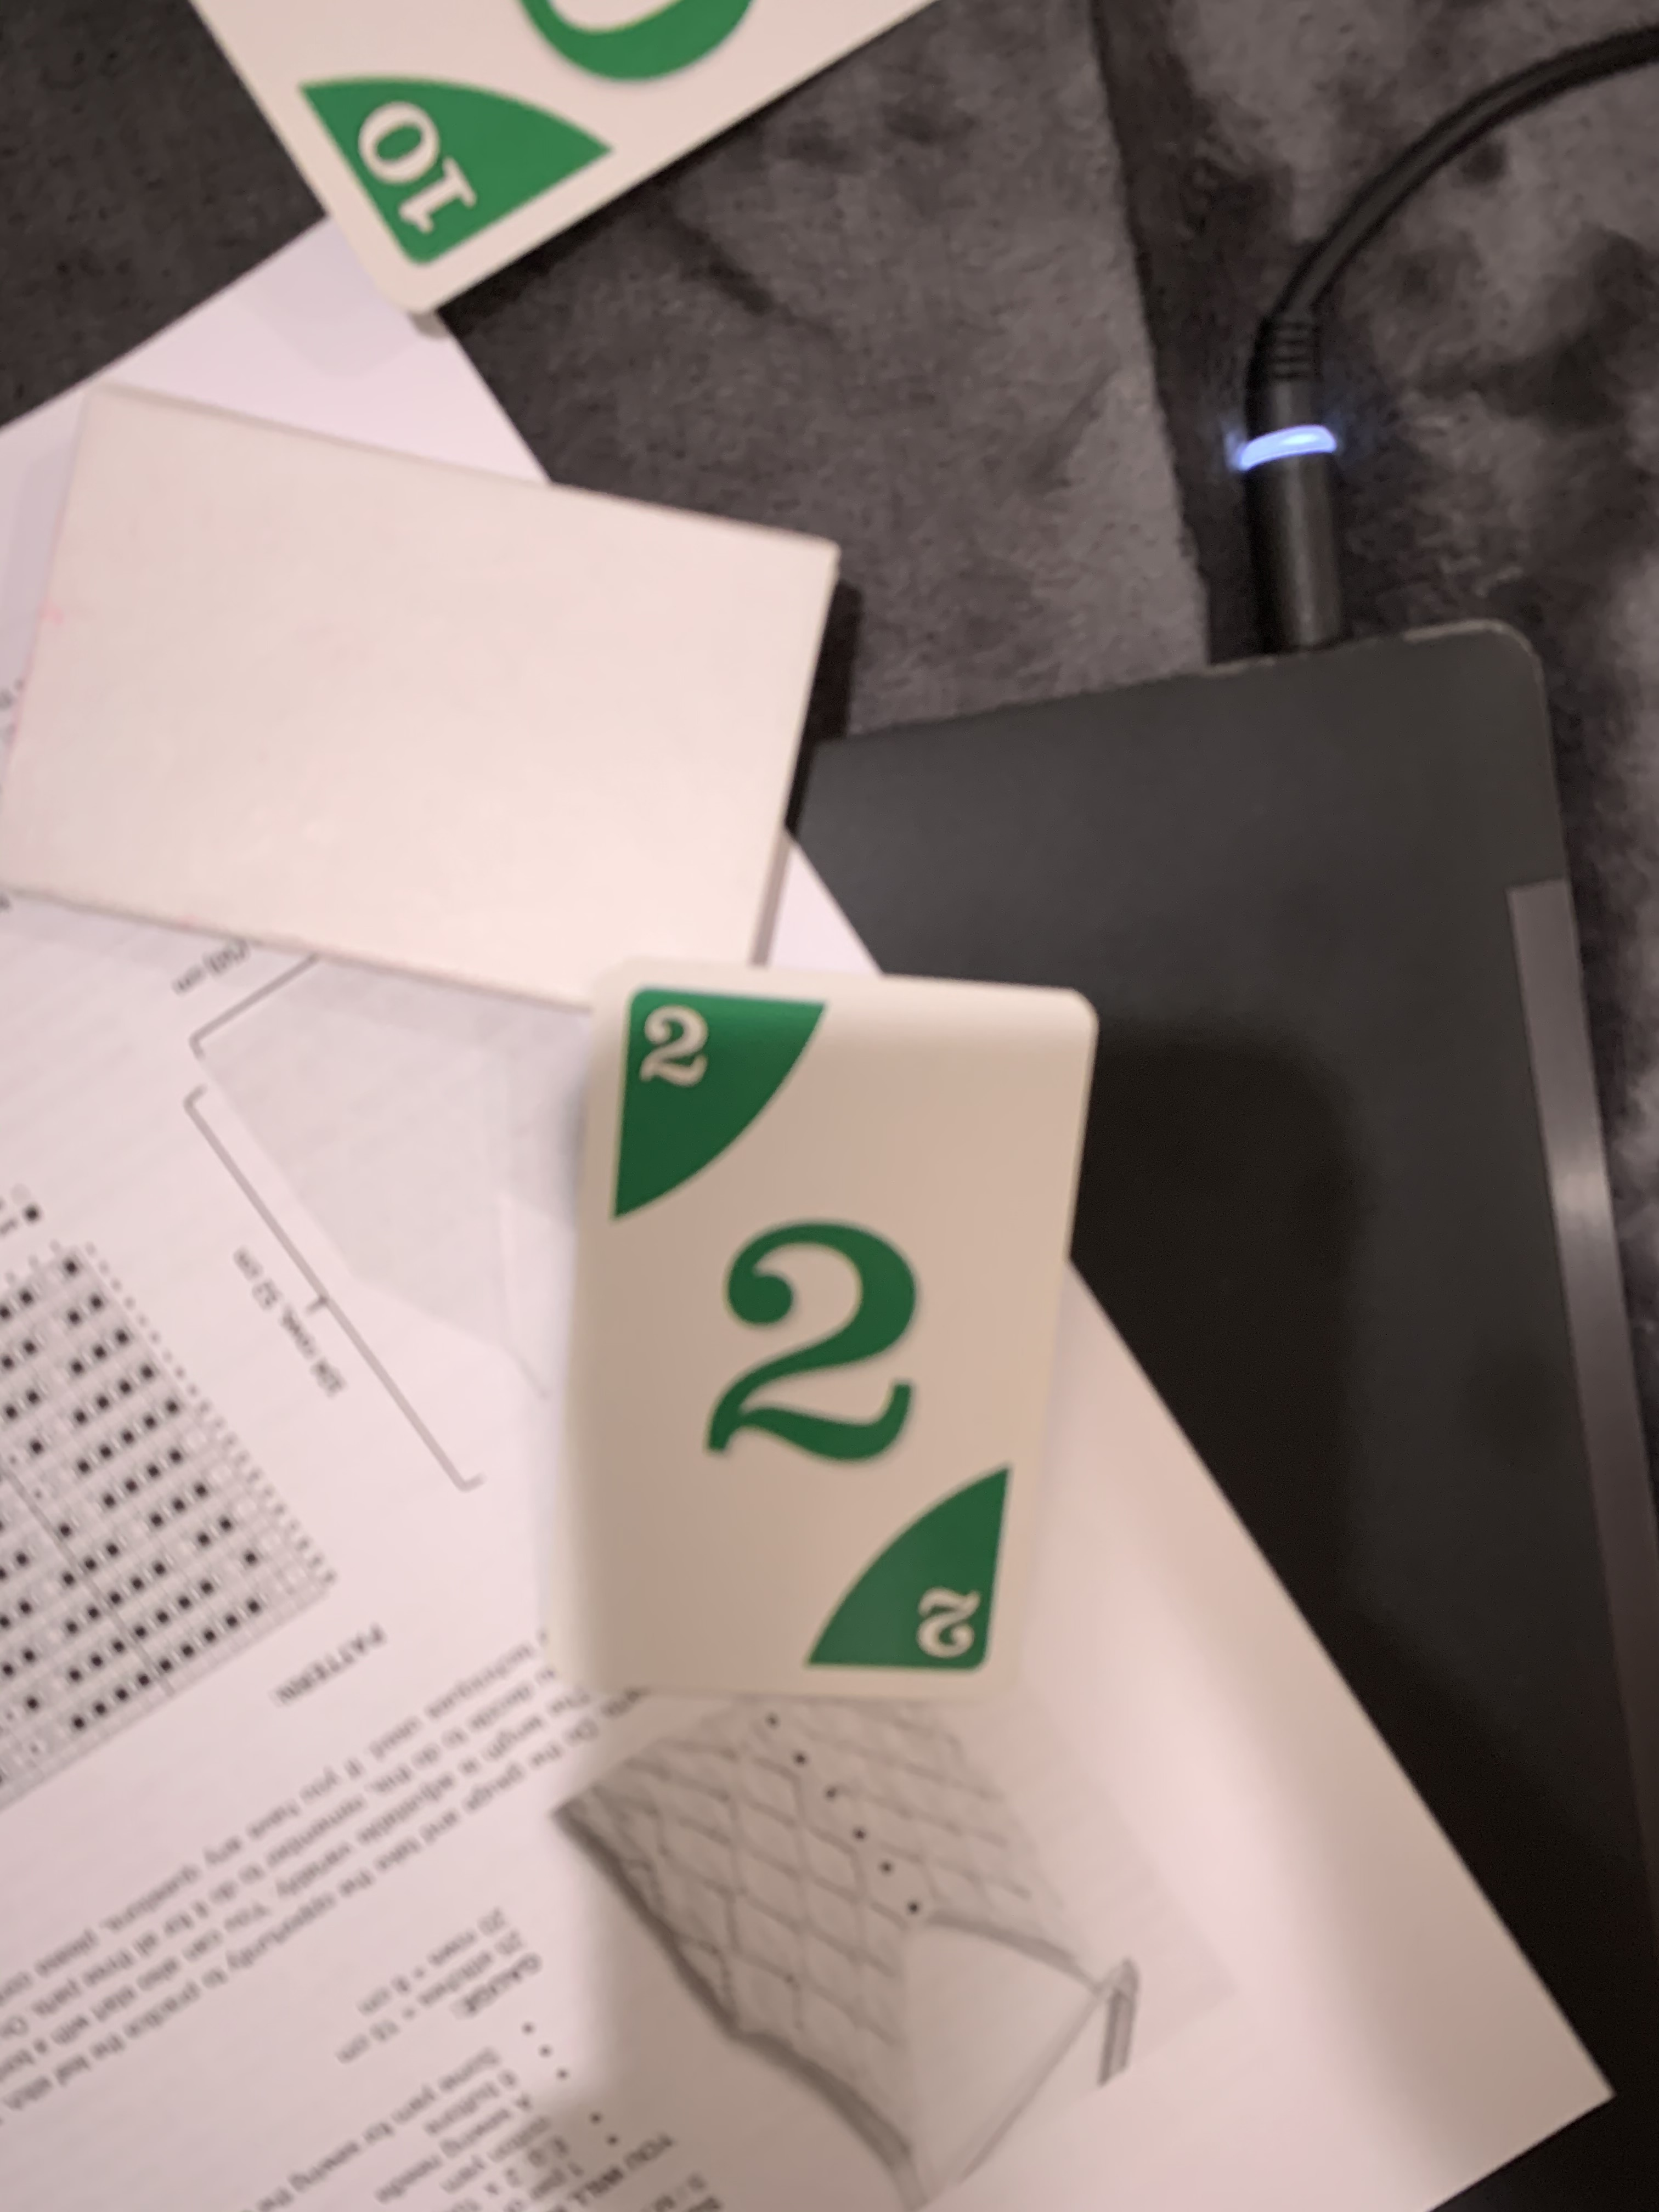two: (537, 948, 1110, 1714)
